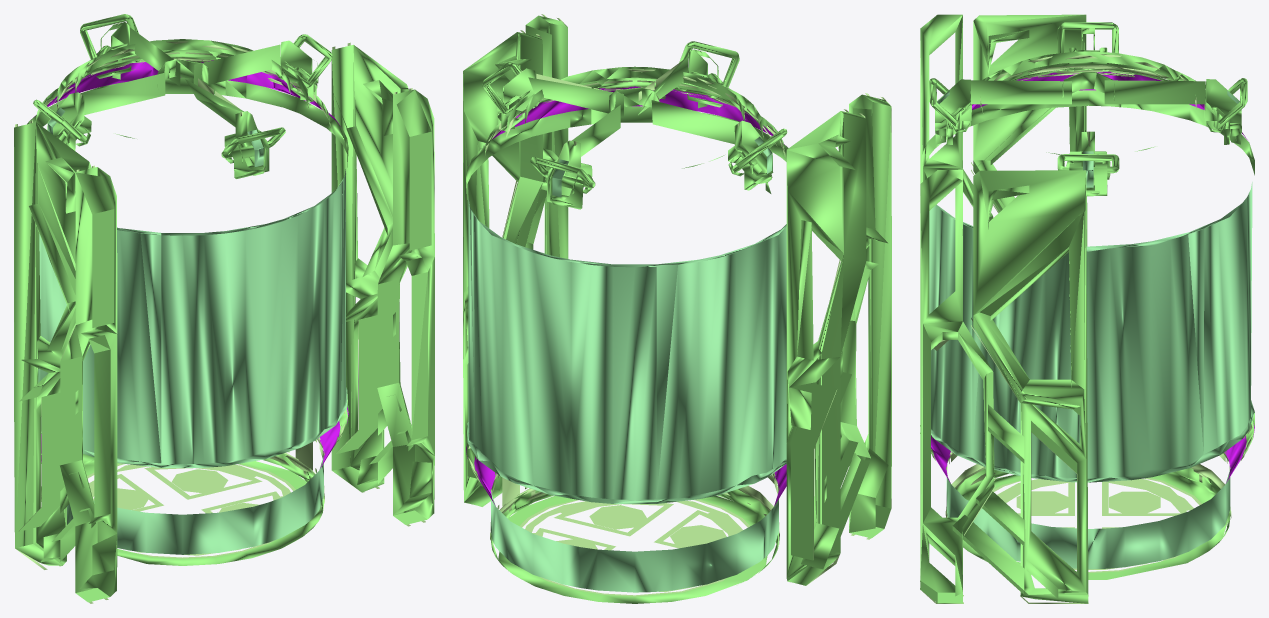
Rendered from roomgrav_sidetanks_4m_a_fs_lod2.glb.
3 views of the same model, side by side, from view 1: azimuth 30°, elevation 25°; view 2: azimuth 150°, elevation 25°; view 3: azimuth 270°, elevation 25° (orthographic).
Bounding box in the file's own units: 3.36 × 4.15 × 2.86.
